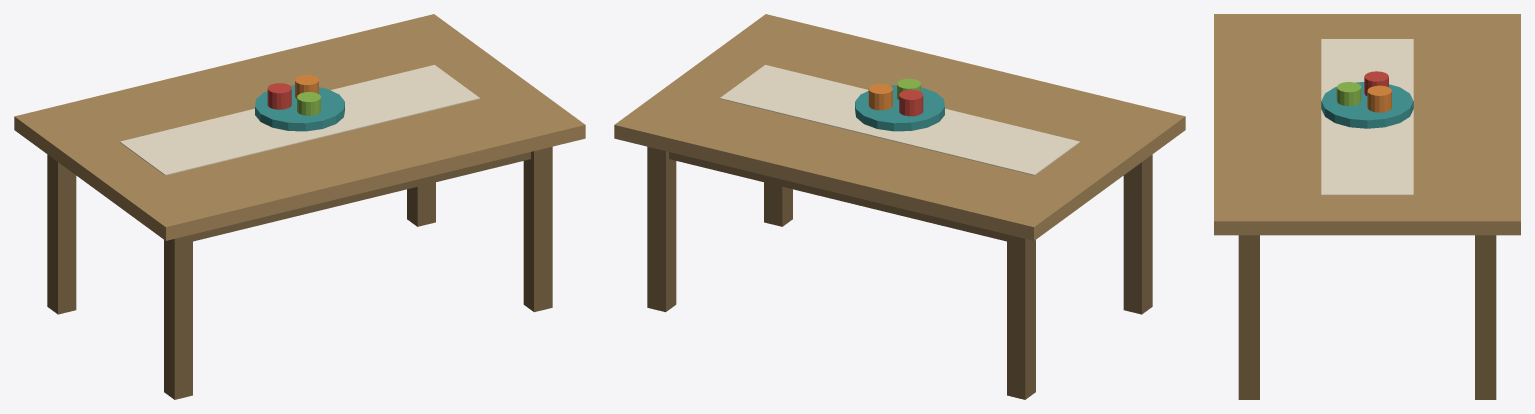
Rendered from dining_table.glb.
3 renders of one model, left to right at view 1: azimuth 30°, elevation 25°; view 2: azimuth 150°, elevation 25°; view 3: azimuth 270°, elevation 25°, orthographic.
Parts seen in each view (by area): view 1: dining_table_Body; view 2: dining_table_Body; view 3: dining_table_Body.
Part boxes in pixels (box(x1,y1,x2,y2)): dining_table_Body: box(14, 14, 585, 399); dining_table_Body: box(614, 14, 1185, 399); dining_table_Body: box(1214, 14, 1520, 399).
Size of the model in its own units: 1.6 by 0.8 by 1.
